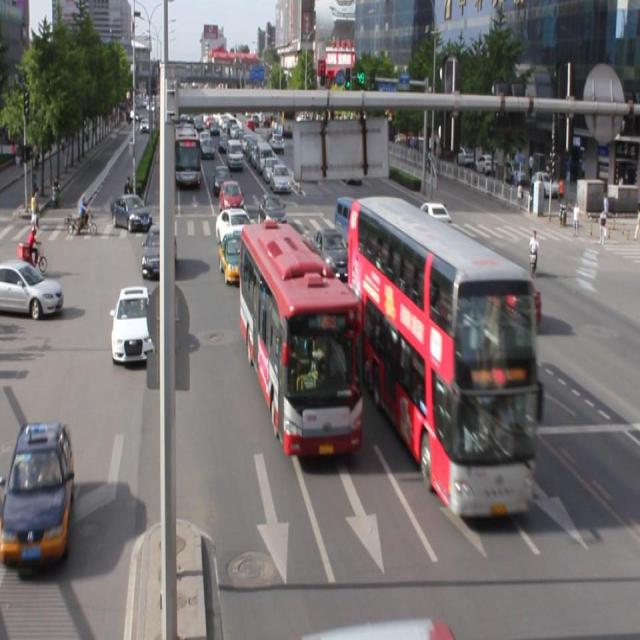car: (0, 421, 74, 566), (110, 284, 156, 362), (496, 268, 544, 329), (310, 225, 352, 280), (141, 223, 178, 277), (218, 230, 251, 284), (216, 207, 253, 248)
van: (343, 199, 536, 516), (242, 225, 362, 455)
